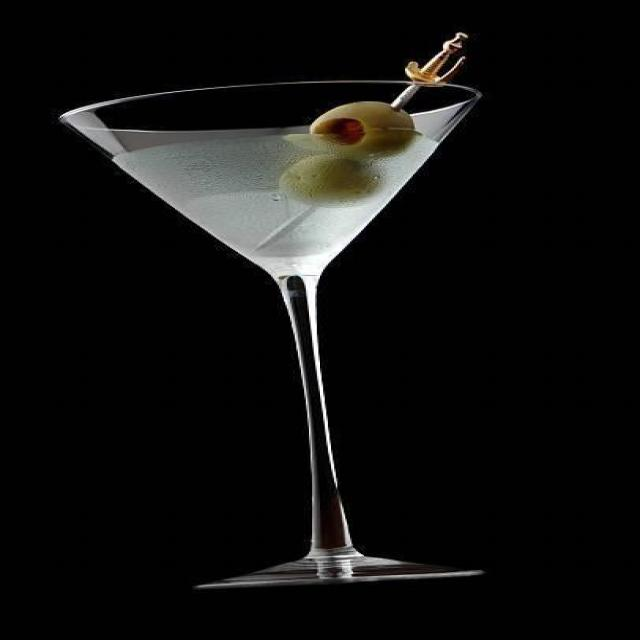glass-wine: (57, 80, 490, 584)
